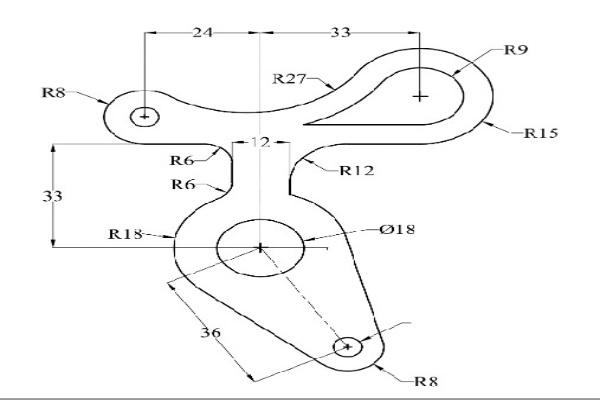dimensions: (521, 113, 564, 148), (372, 217, 421, 243), (336, 159, 375, 183), (413, 367, 445, 396), (104, 221, 142, 245), (502, 37, 535, 62), (267, 65, 305, 85), (187, 21, 217, 40), (168, 175, 197, 194), (39, 82, 66, 101), (164, 153, 195, 169), (199, 323, 225, 342), (248, 135, 275, 152), (40, 187, 64, 206), (331, 24, 355, 41)
